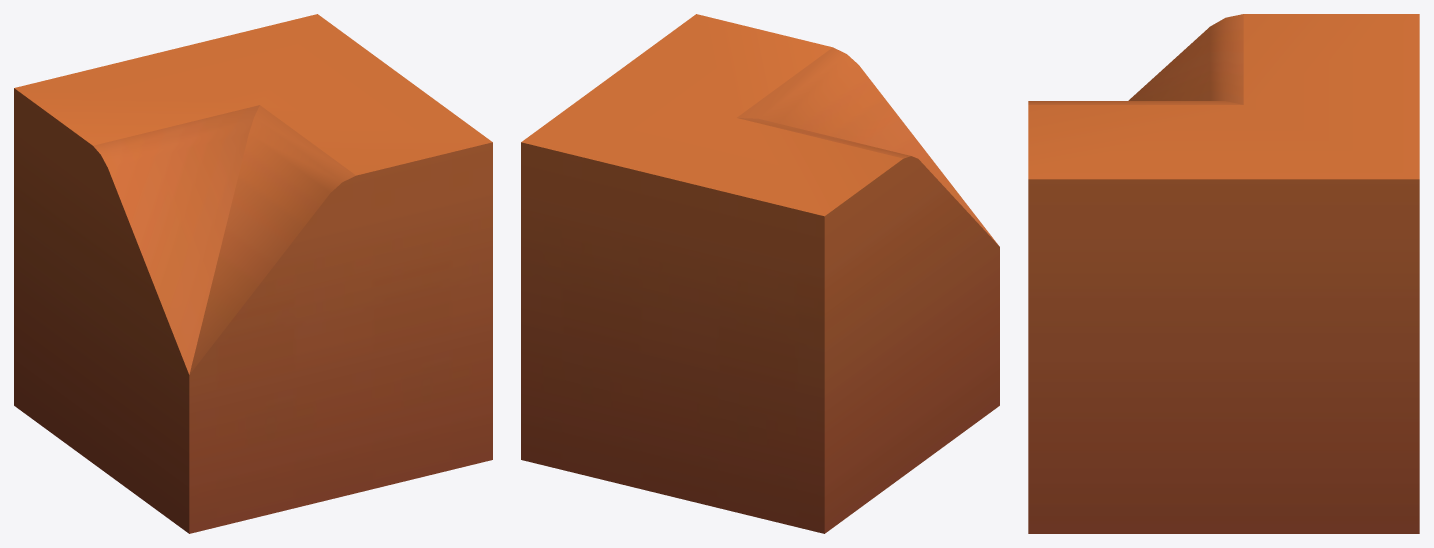
The model's file is terrain_slope_inner_corner.glb.
3 views of the same model, side by side, from view 1: azimuth 30°, elevation 25°; view 2: azimuth 150°, elevation 25°; view 3: azimuth 270°, elevation 25° (orthographic). The views are drawn at different scales.
Parts seen in each view (by area): view 1: terrain_slope_inner_corner_Cube.15118; view 2: terrain_slope_inner_corner_Cube.15118; view 3: terrain_slope_inner_corner_Cube.15118.
Part boxes in pixels (bbox=[...]): terrain_slope_inner_corner_Cube.15118: bbox=[14, 14, 492, 533]; terrain_slope_inner_corner_Cube.15118: bbox=[521, 14, 999, 533]; terrain_slope_inner_corner_Cube.15118: bbox=[1028, 14, 1419, 533].
Size of the model in its own units: 2 by 2 by 2.
1 material, 1 textured.
